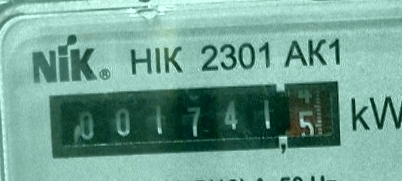0: (110, 104, 130, 138), (74, 108, 94, 141)
1: (146, 101, 164, 137), (256, 97, 272, 132)
4: (218, 97, 239, 132), (294, 86, 310, 105)
5: (293, 106, 313, 138)
7: (182, 103, 200, 138)
screen: (40, 74, 346, 164)
